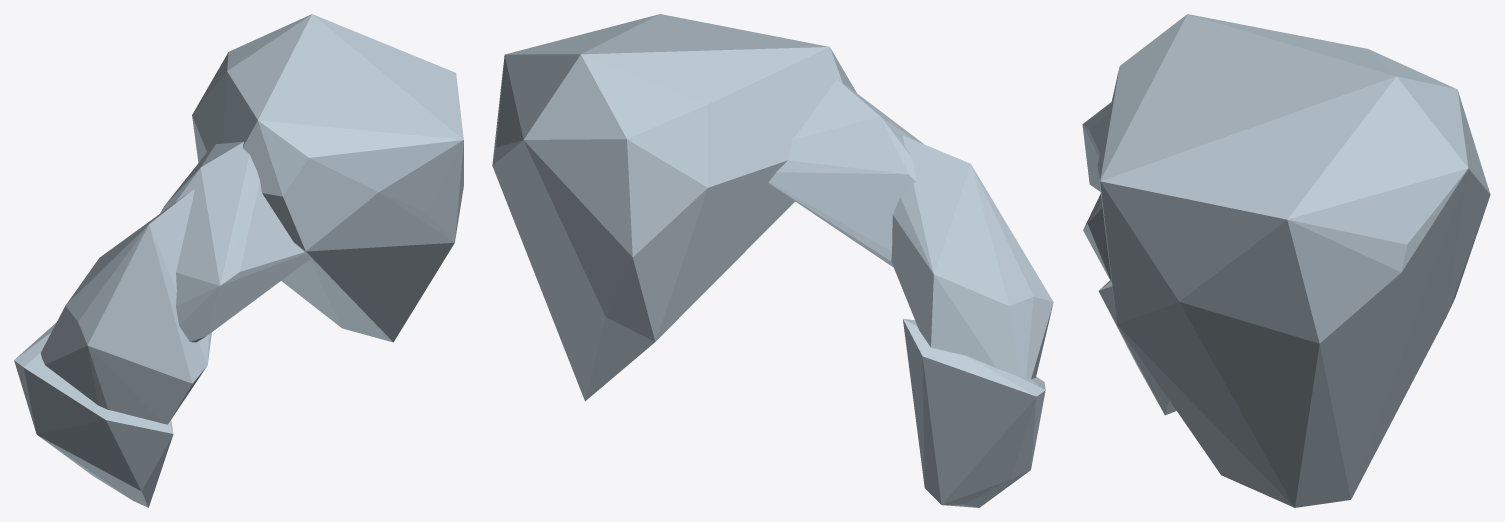
Rendered from MountainTop 1.fbx.
3 views of the same model, side by side, from view 1: azimuth 30°, elevation 25°; view 2: azimuth 150°, elevation 25°; view 3: azimuth 270°, elevation 25° (orthographic). The views are drawn at different scales.
Visible parts, largest first — view 1: s.0608; view 2: s.0608; view 3: s.0608.
Boxes of the visible parts, x1,y1,x2,y2 form: s.0608: (14, 14, 463, 507); s.0608: (492, 14, 1053, 507); s.0608: (1082, 14, 1490, 507).
Bounding box in the file's own units: 1362 × 1089 × 799.
